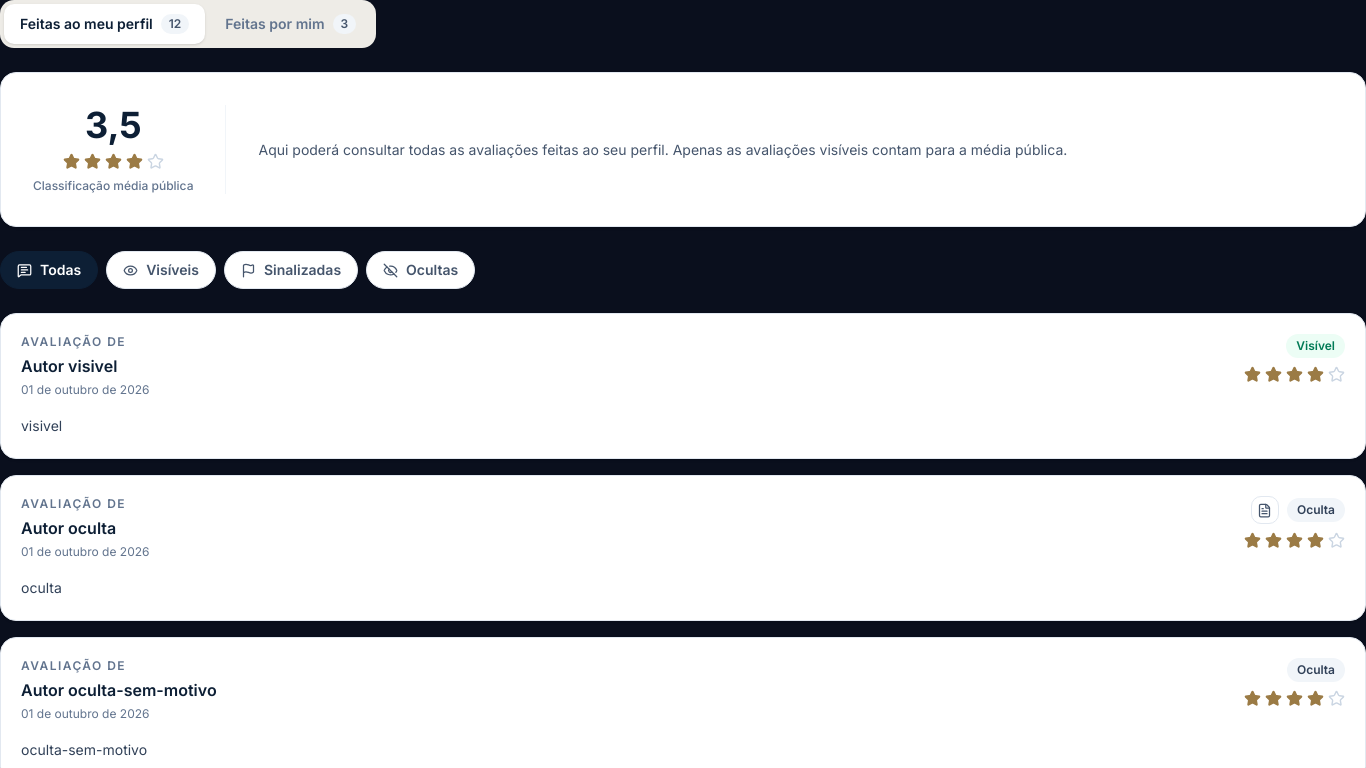
Test case: As minhas avaliações › uma avaliação oculta abre a justificação com o texto do admin, o email e o botão Fechar
expect the text "Viola o <b>código</b> de conduta." is not shown: met
Click the button named "Ver justificação". click: x=1265, y=510
box: [1251,496,1279,524]
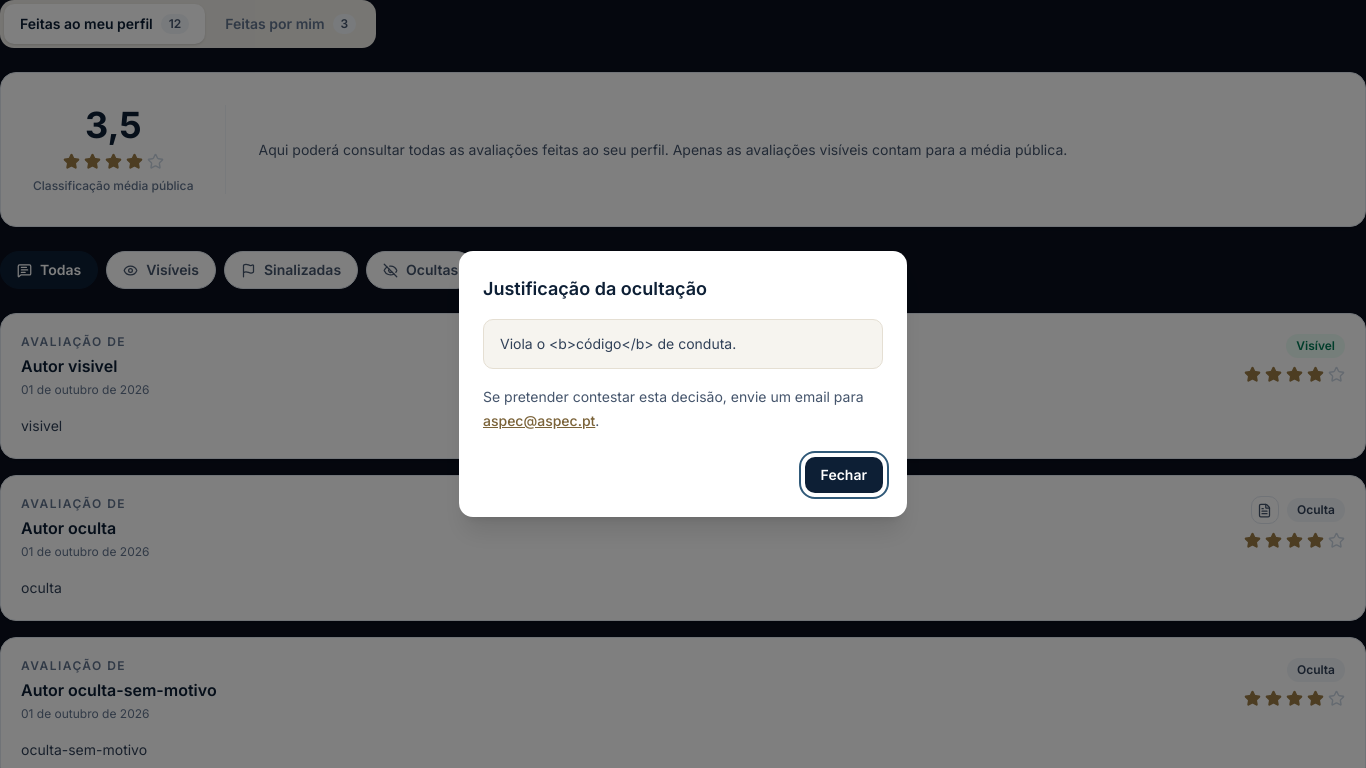
expect the text "Viola o <b>código</b> de conduta." is shown: met, box [500,335,736,352]
expect the dialog "Justificação da ocultação" shows "Se pretender contestar esta decisão, envie um email para aspec@aspec.pt.": met, box [459,251,907,517]
Click the button "Fechar". click: x=844, y=475
box: [805,457,883,493]
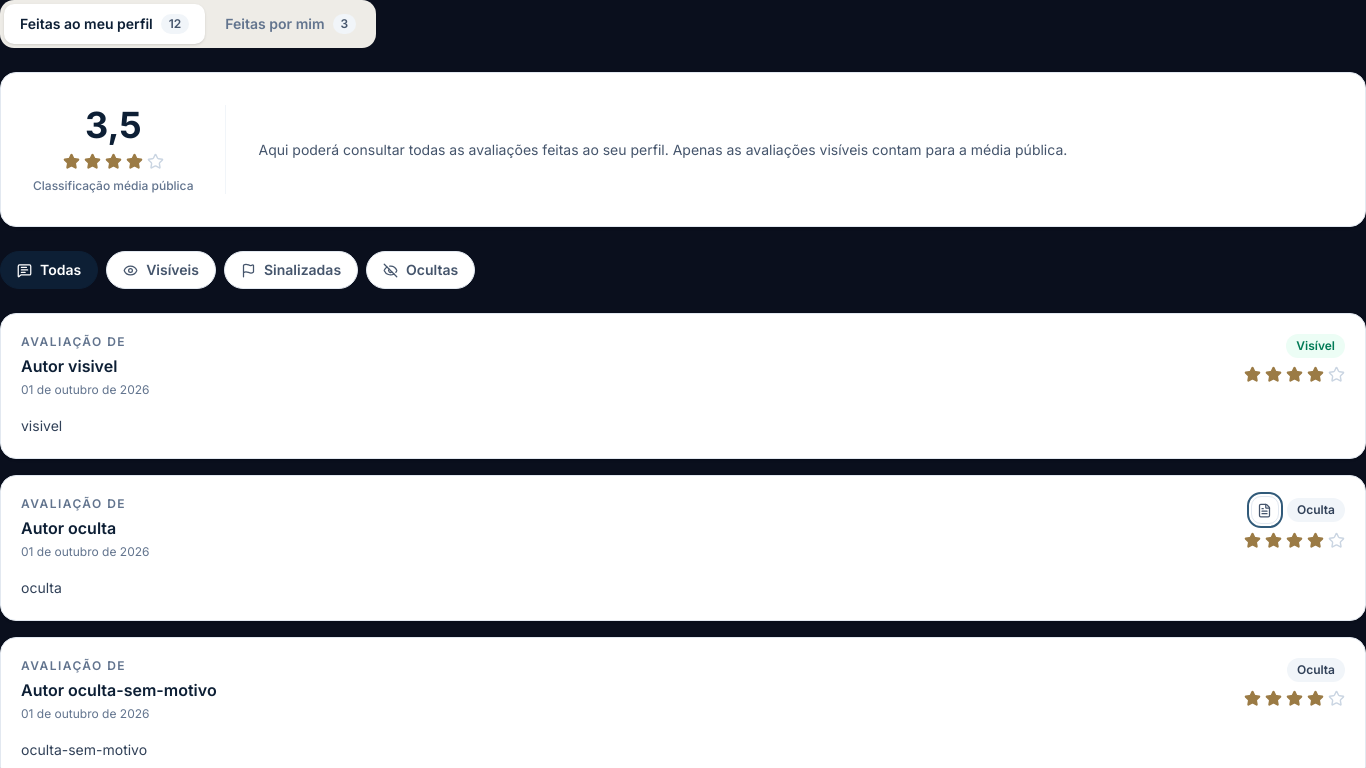
expect the dialog is gone: met
